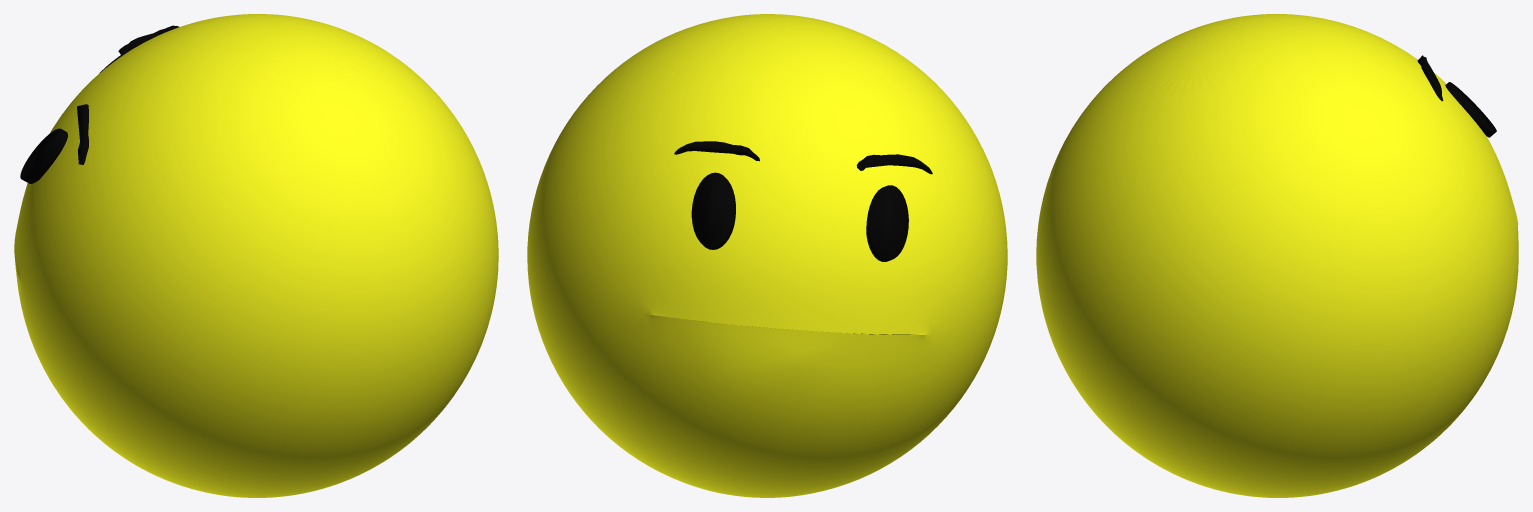
File: [90] lookRight.obj
The picture shows the model from 3 angles, left to right: view 1: azimuth 30°, elevation 25°; view 2: azimuth 150°, elevation 25°; view 3: azimuth 270°, elevation 25°; orthographic projection.
Visible parts, largest first — view 1: head_Sphere.002, rightEye_Cylinder.001, rightEyebrow_Cylinder.005; view 2: head_Sphere.002, leftEye_Cylinder.002, rightEye_Cylinder.001, leftEyebrow_Cylinder.003, rightEyebrow_Cylinder.005; view 3: head_Sphere.002, leftEye_Cylinder.002.
Boxes of the visible parts, x1,y1,x2,y2 form: head_Sphere.002: [14, 14, 498, 497]; rightEye_Cylinder.001: [20, 128, 67, 183]; rightEyebrow_Cylinder.005: [77, 104, 88, 164]; head_Sphere.002: [527, 14, 1007, 497]; leftEye_Cylinder.002: [691, 172, 735, 249]; rightEye_Cylinder.001: [866, 185, 908, 261]; leftEyebrow_Cylinder.003: [674, 141, 759, 161]; rightEyebrow_Cylinder.005: [856, 154, 932, 174]; head_Sphere.002: [1036, 14, 1518, 497]; leftEye_Cylinder.002: [1445, 82, 1496, 137].
Size of the model in its own units: 3.65 by 3.67 by 3.65.
